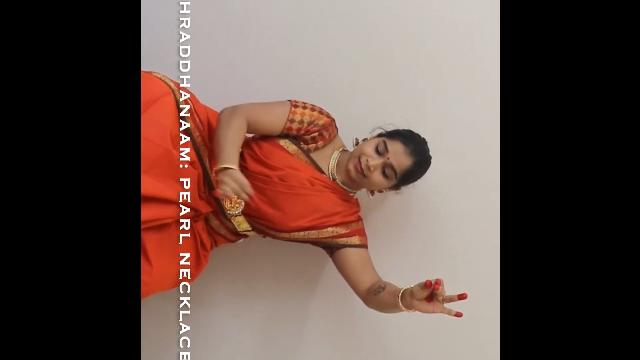katak: (401, 257, 474, 339)
